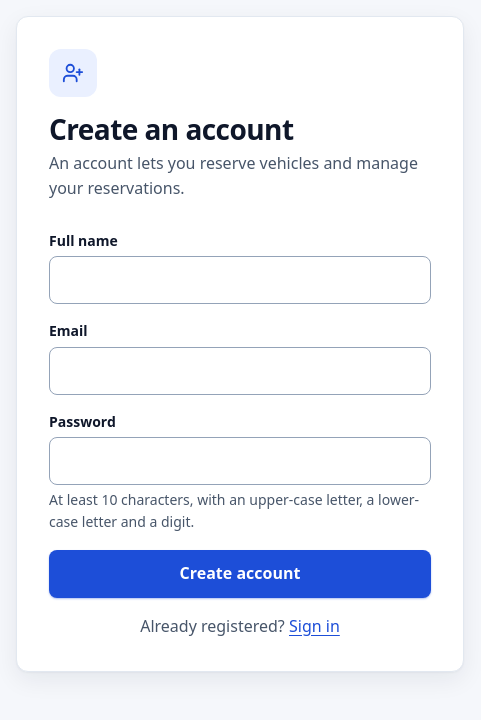
RegisterPage › explains an email that is already registered
In the field labelled "Full name": [240, 280] box x1=49 y1=256 x2=431 y2=304, type "Casey"
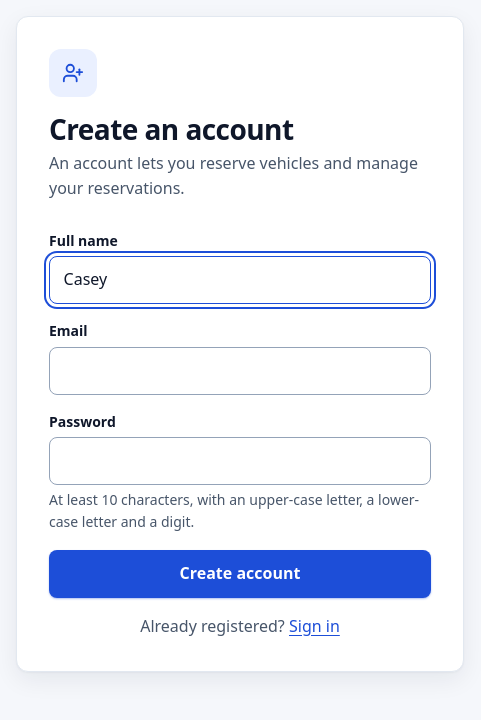
In the field labelled "Email": [240, 371] box x1=49 y1=347 x2=431 y2=395, type "casey@example.test"
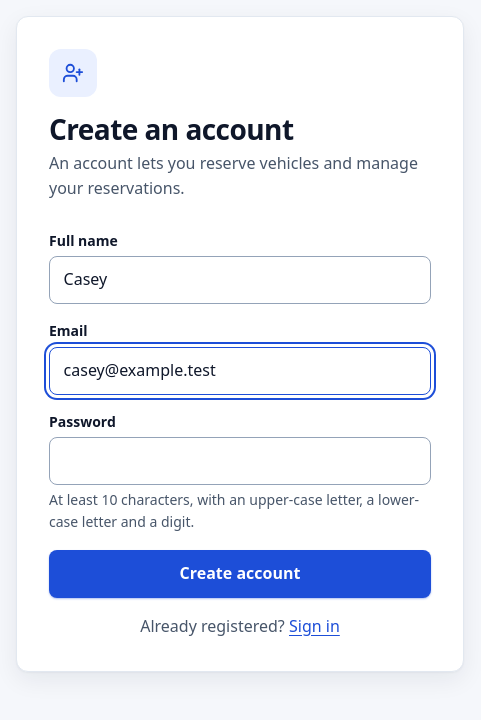
In the password field labelled "Password": [240, 461] box x1=49 y1=437 x2=431 y2=485, type "Correct-horse-1"
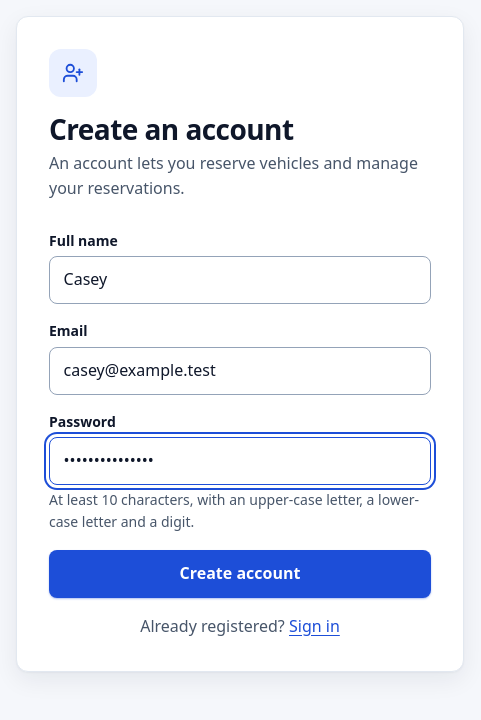
Click the button "Create account": [240, 574] box x1=49 y1=550 x2=431 y2=598
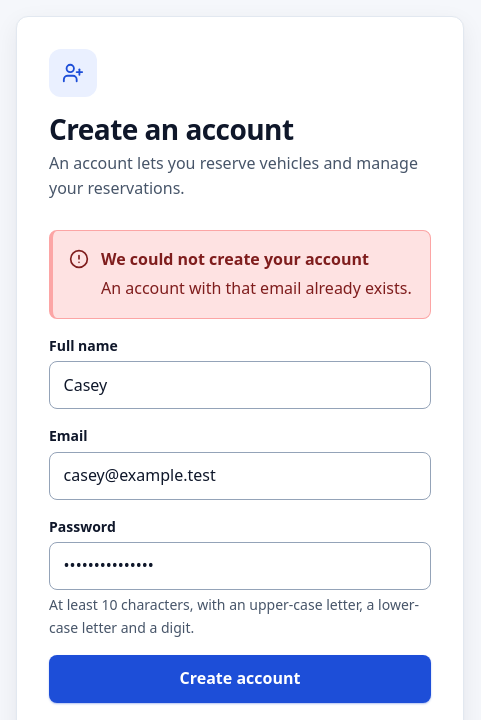
expect the message shows "An account with that email already exists.": met, box x1=101 y1=277 x2=412 y2=299
